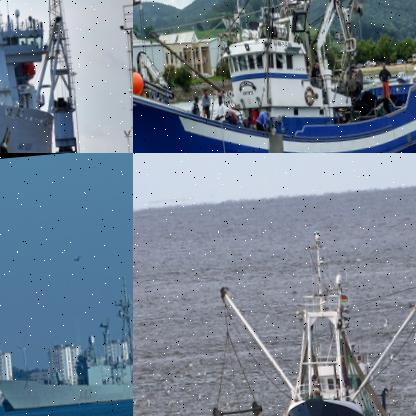Fishing Boat: (133, 0, 415, 152), (198, 221, 415, 415)
Military Ship: (0, 261, 132, 413), (0, 0, 64, 152)
